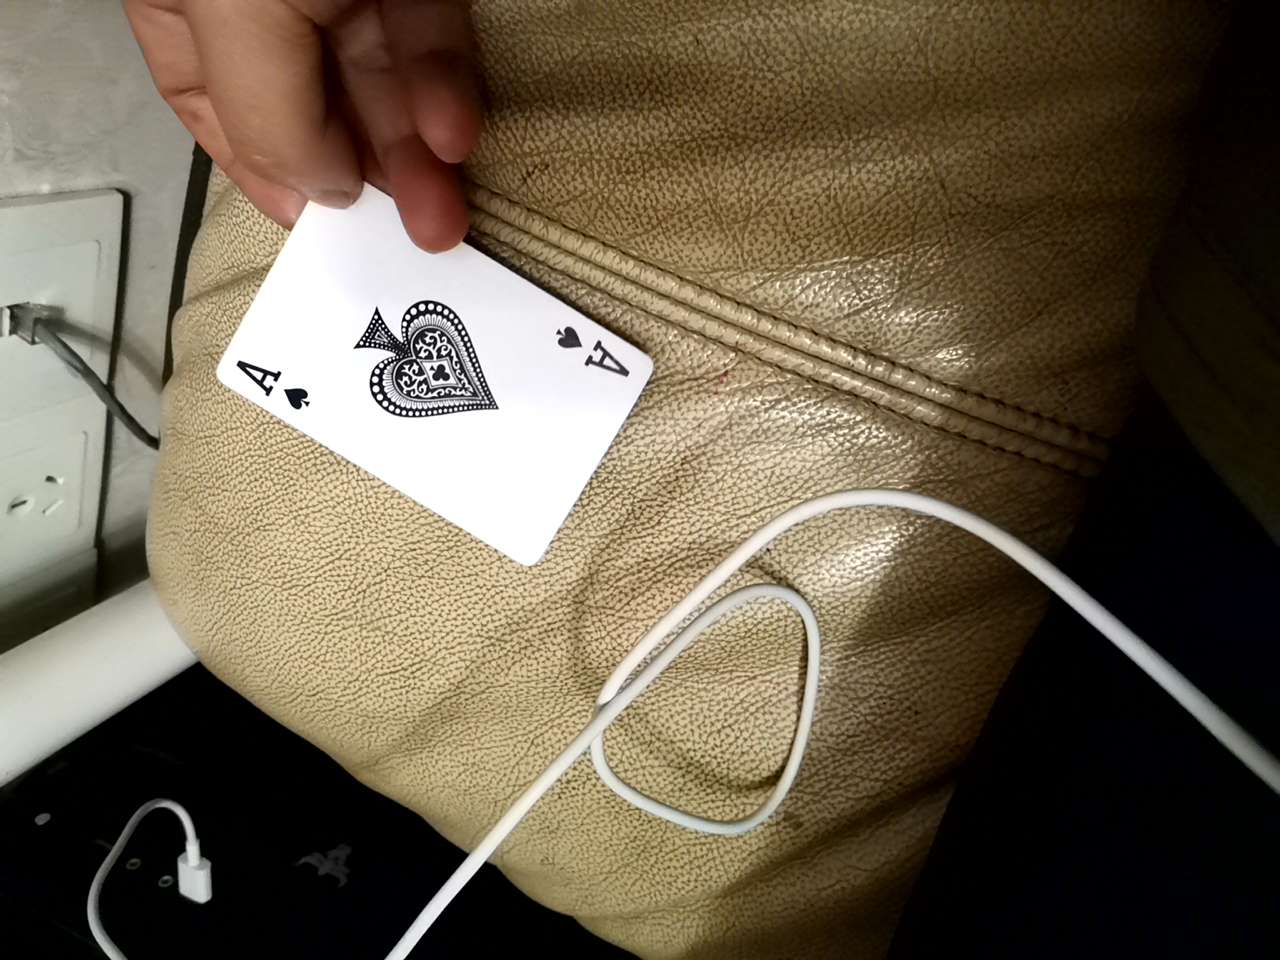ht a: (241, 166, 628, 564)
